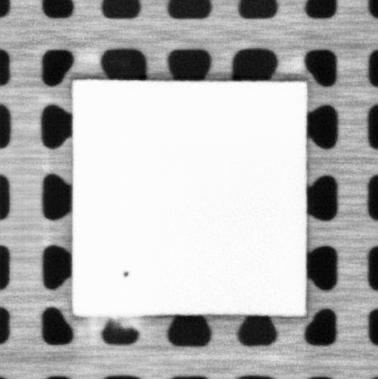DIE_INK: (121, 269, 131, 278)
